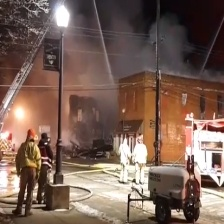smoke: (2, 19, 193, 121)
